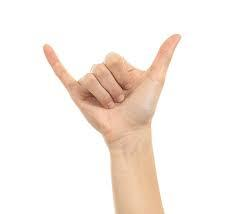Call-Me: (42, 32, 184, 128)
